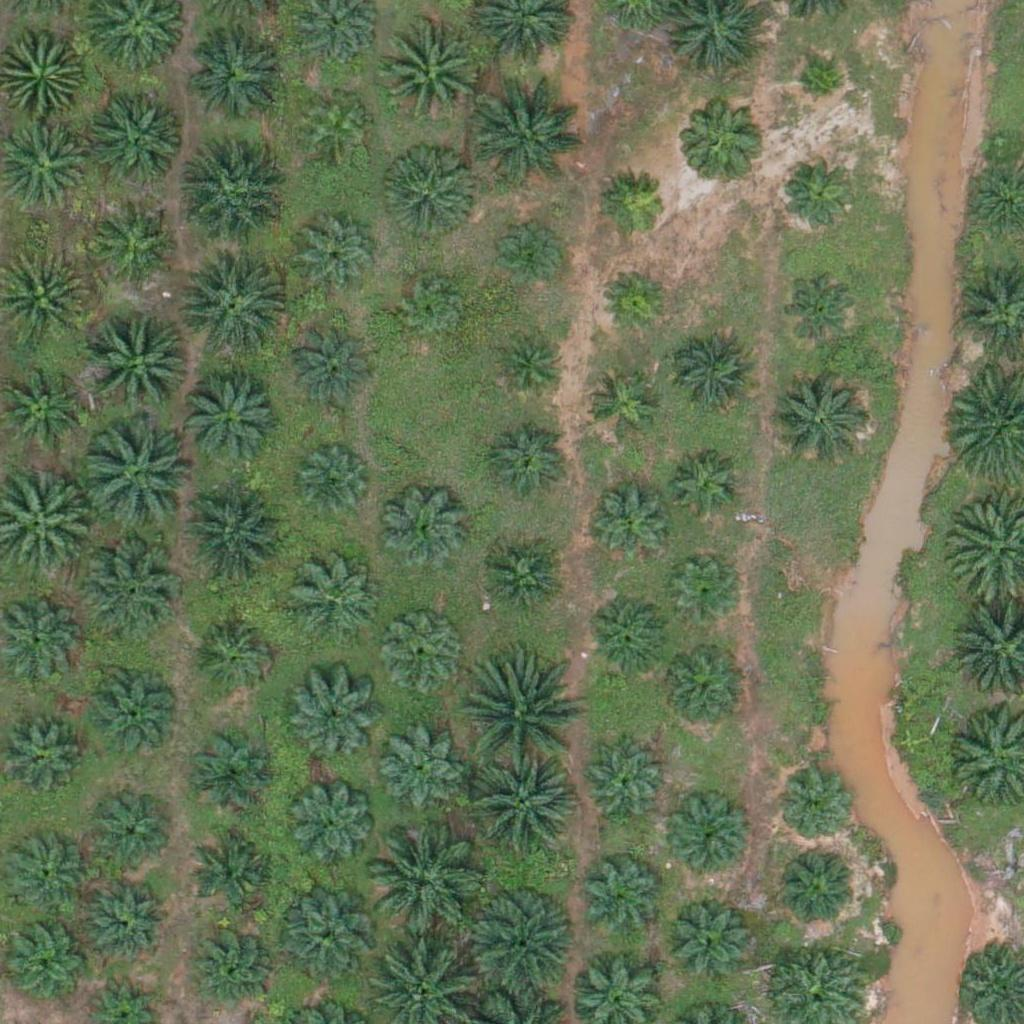Kelapa_Sawit: (459, 884, 572, 998), (466, 661, 579, 774), (171, 486, 284, 599), (80, 423, 193, 536), (86, 308, 198, 422), (464, 754, 576, 867), (367, 827, 479, 940), (172, 137, 284, 250), (173, 251, 285, 364), (474, 77, 586, 190), (769, 371, 869, 472), (276, 894, 376, 995), (180, 373, 280, 474), (77, 540, 177, 641), (88, 92, 188, 193), (187, 23, 287, 124), (379, 23, 479, 124), (380, 142, 480, 242), (586, 477, 674, 566), (778, 265, 866, 354), (484, 421, 572, 509), (472, 537, 560, 625), (656, 644, 744, 732), (579, 854, 667, 942), (288, 680, 376, 768), (288, 781, 376, 869), (88, 666, 176, 754), (189, 612, 277, 700), (378, 613, 466, 701), (94, 193, 182, 281), (287, 326, 375, 414), (294, 208, 382, 296), (678, 91, 766, 179), (672, 330, 760, 418), (585, 592, 672, 680), (578, 740, 665, 828), (667, 797, 754, 885), (774, 843, 861, 931), (663, 892, 750, 980), (5, 915, 92, 1003), (1, 830, 88, 918), (86, 791, 173, 879), (87, 875, 174, 963), (185, 919, 272, 1007), (193, 822, 280, 910), (185, 725, 272, 813), (380, 484, 467, 572), (377, 726, 464, 814), (291, 557, 378, 645), (776, 147, 863, 235), (295, 447, 370, 523), (493, 218, 568, 294), (668, 557, 743, 633), (777, 770, 852, 846), (491, 330, 566, 406), (598, 168, 673, 243), (299, 89, 374, 164), (583, 368, 658, 443), (397, 273, 472, 348), (671, 452, 746, 527), (598, 264, 673, 339), (795, 62, 845, 112)
